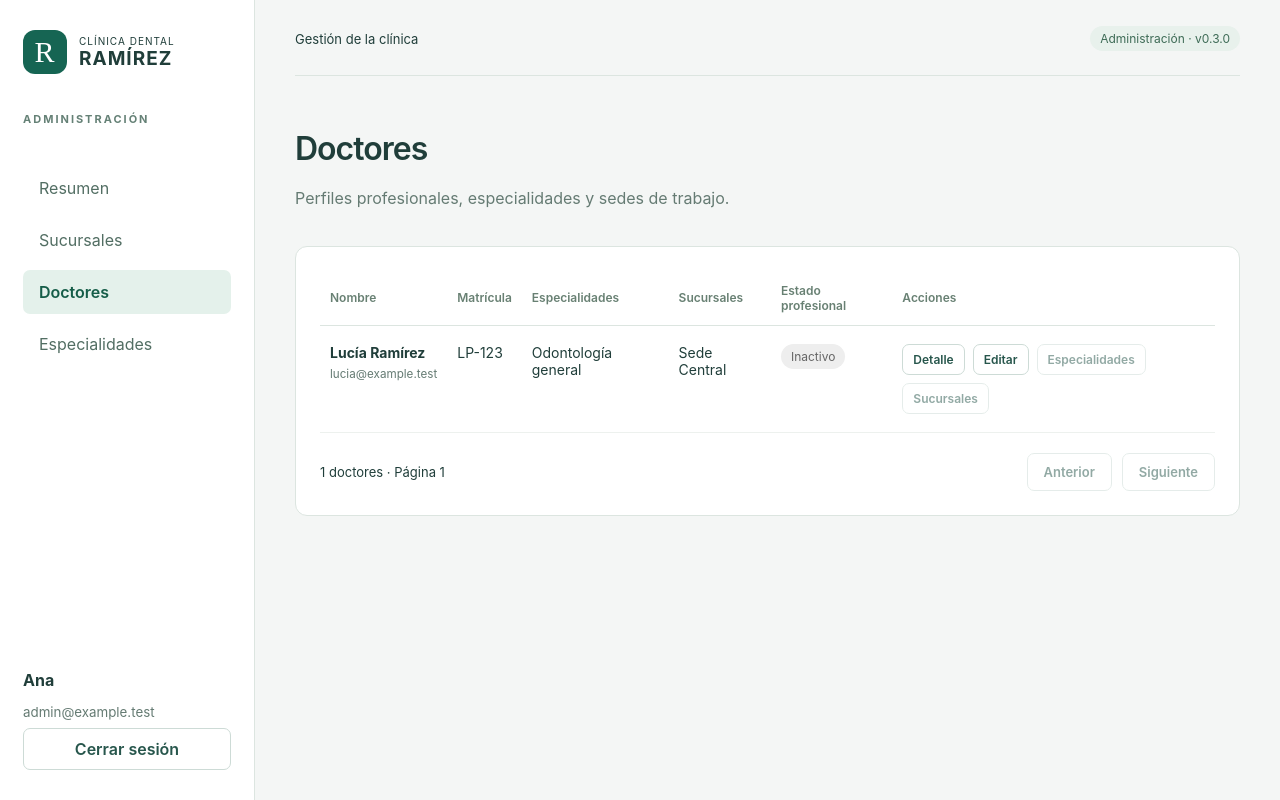
Test: deshabilita el estado sin doctors.disable y preserva isActive=false al editar
This screenshot has width=1280, height=800.
Click the button "Editar" at (1001, 360), box [973,344,1028,375]
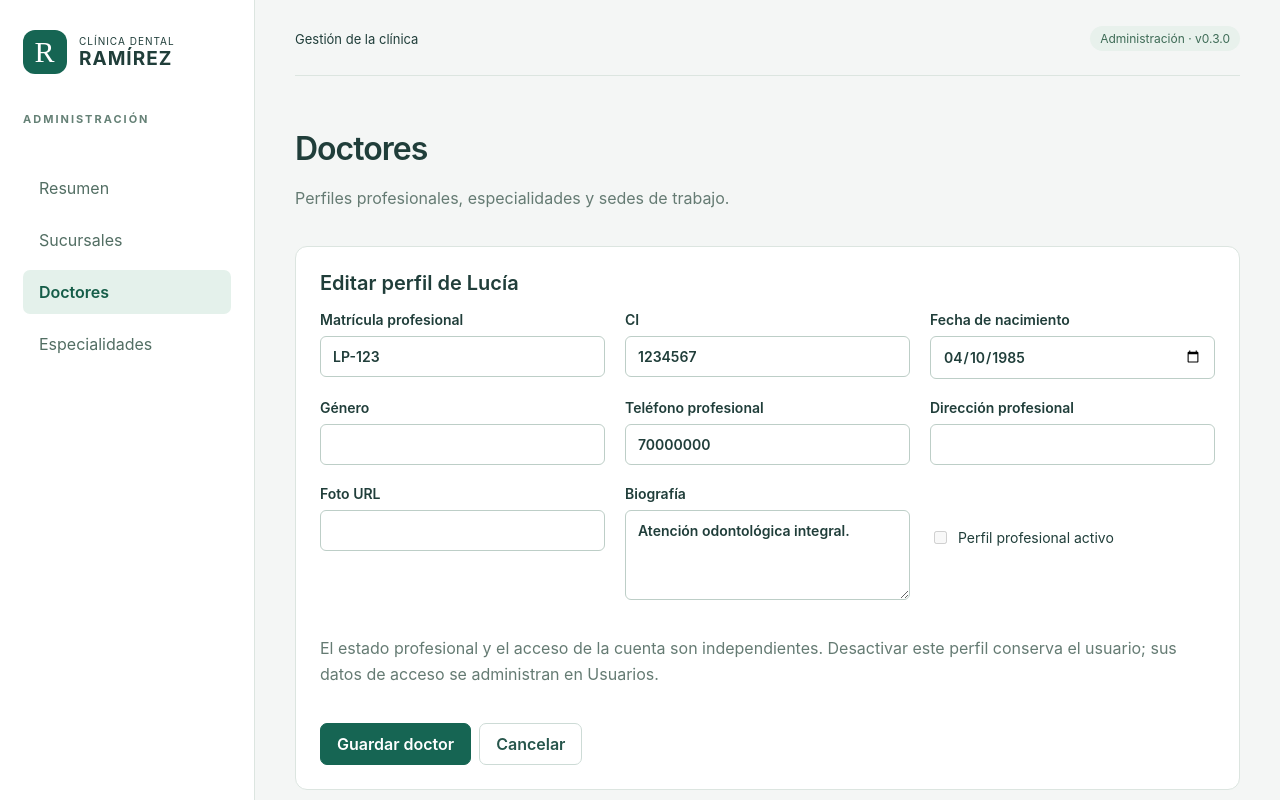
Now the checkbox labelled "Perfil profesional activo" is disabled, box [934,531,947,544]
Now the checkbox labelled "Perfil profesional activo" is not checked, box [934,531,947,544]
Replace the text in the field labelled "Teléfono profesional" with "71111111" at (768, 444), box [625,424,910,465]
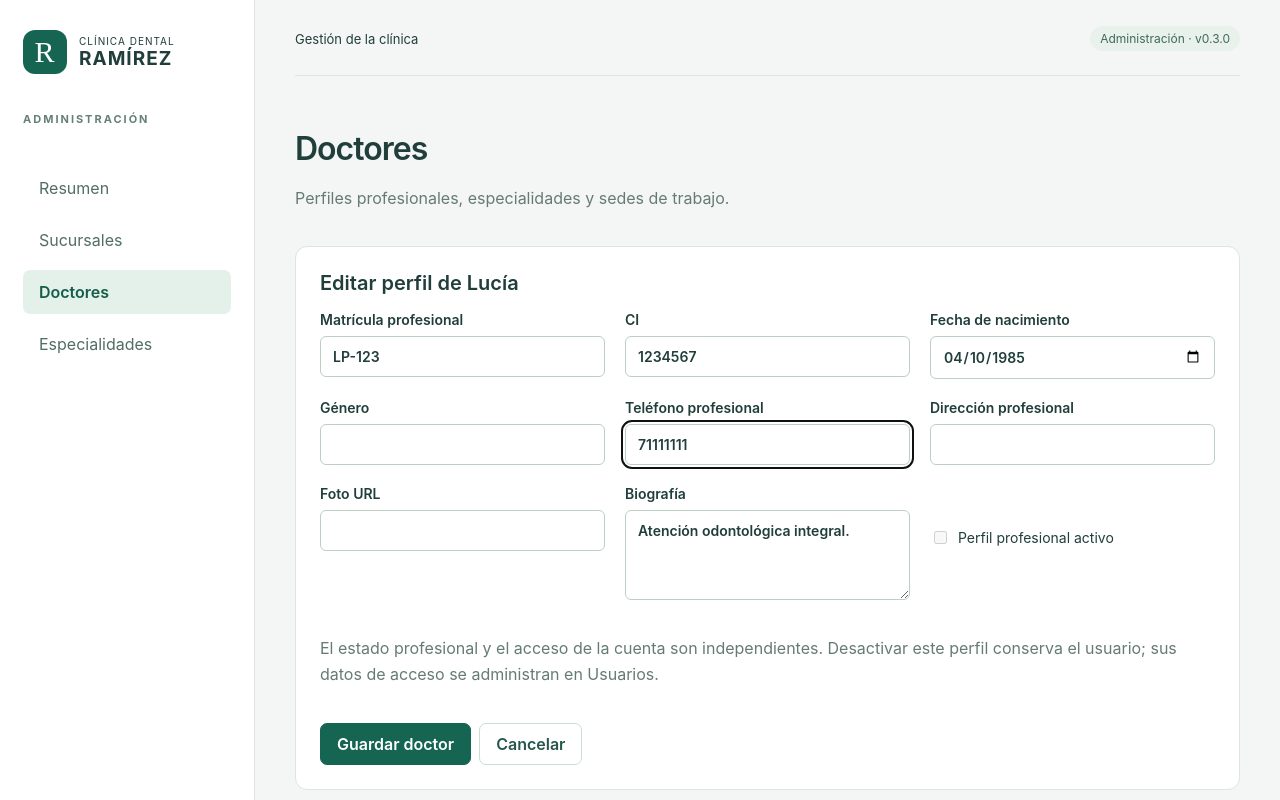
Click the button "Guardar doctor" at (396, 744), box [320,723,471,765]
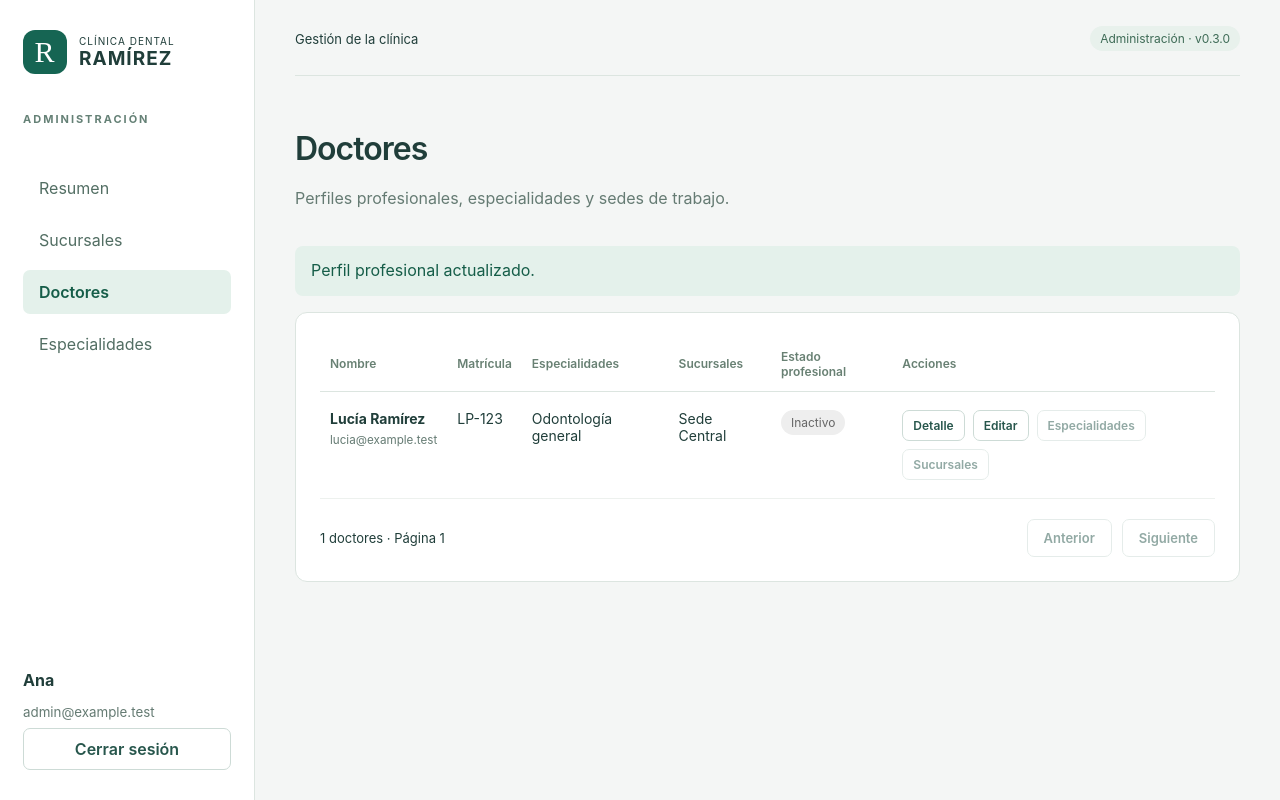
Now the text "Perfil profesional actualizado." is shown, box [295,246,1240,296]
